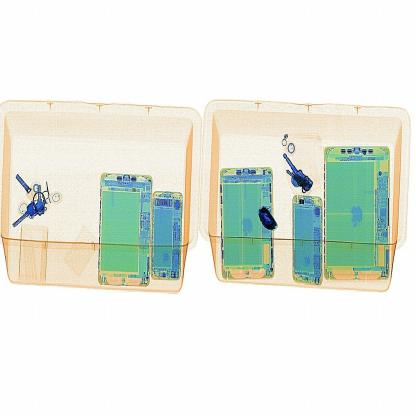scissors: (249, 197, 286, 243)
